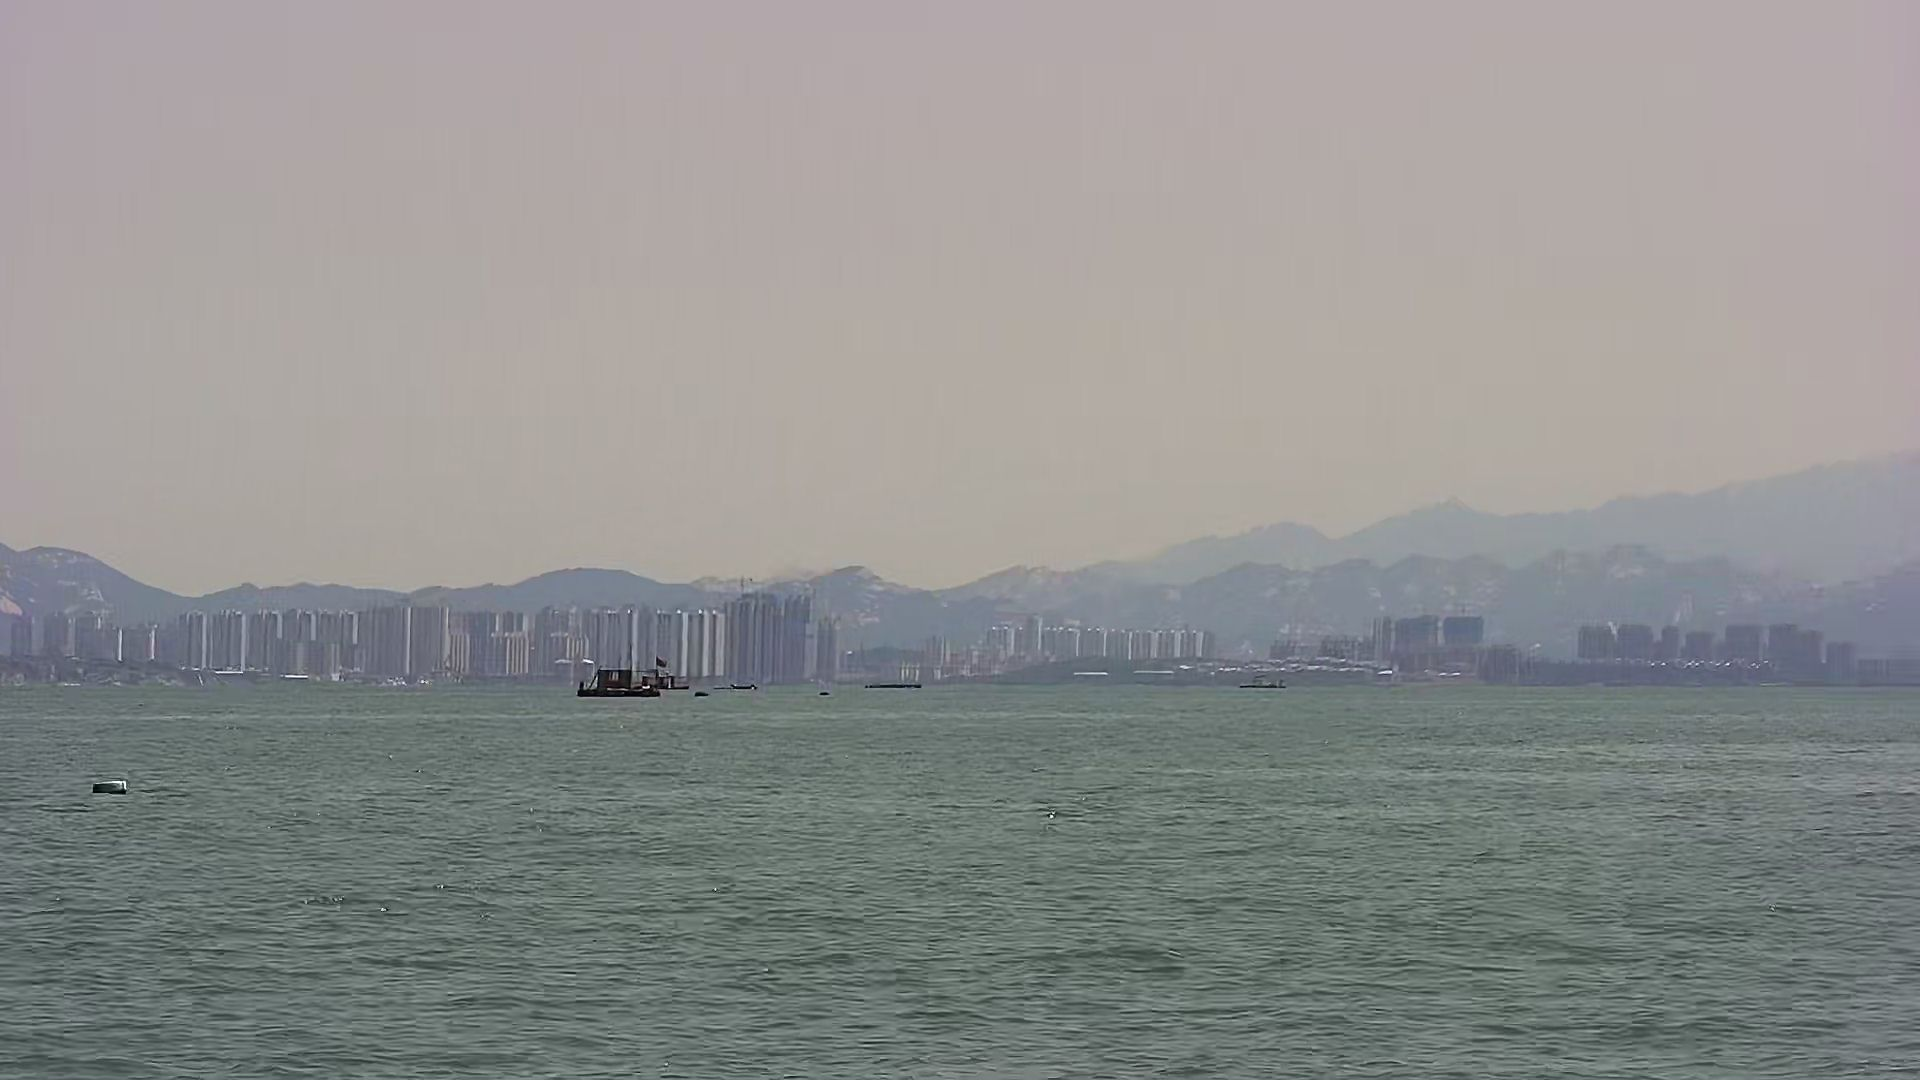platform: (84, 767, 138, 800), (858, 675, 924, 694)
ship: (576, 658, 686, 698)
